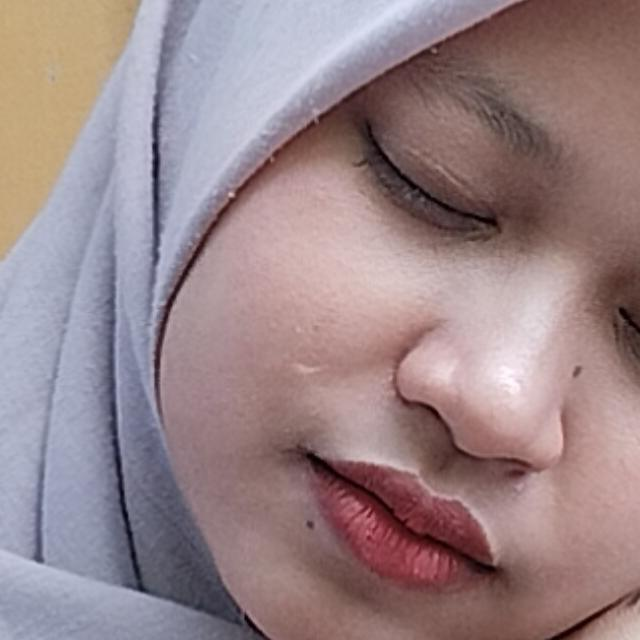tidur: (0, 218, 640, 640)
